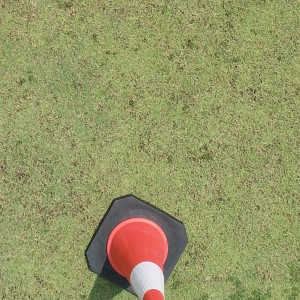traffic cone: (84, 193, 189, 300)
